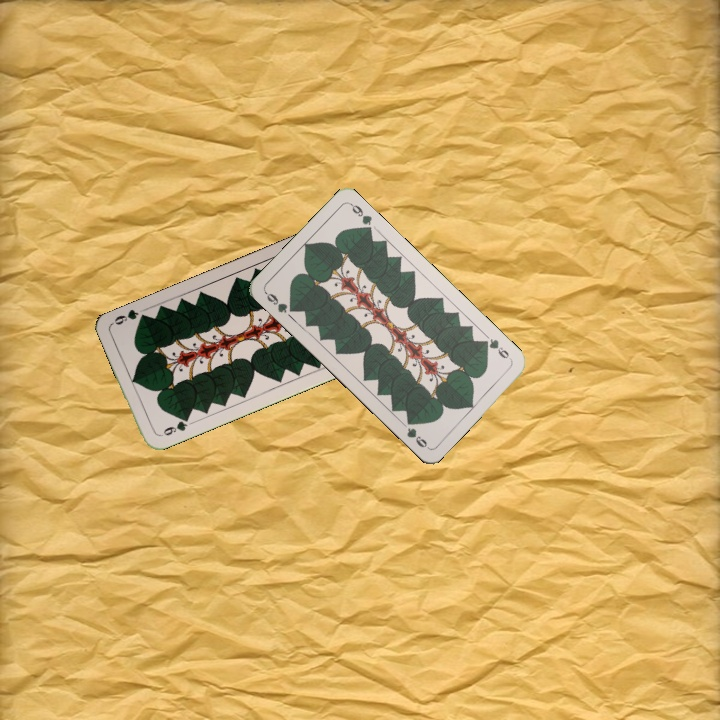G9: (261, 288, 298, 316), (478, 335, 514, 363), (155, 413, 192, 439)
